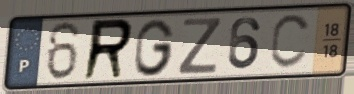6: (45, 20, 83, 83), (228, 16, 263, 72)
C: (267, 12, 314, 72)
G: (133, 17, 177, 79)
R: (80, 17, 136, 84)
Z: (175, 16, 225, 76)
